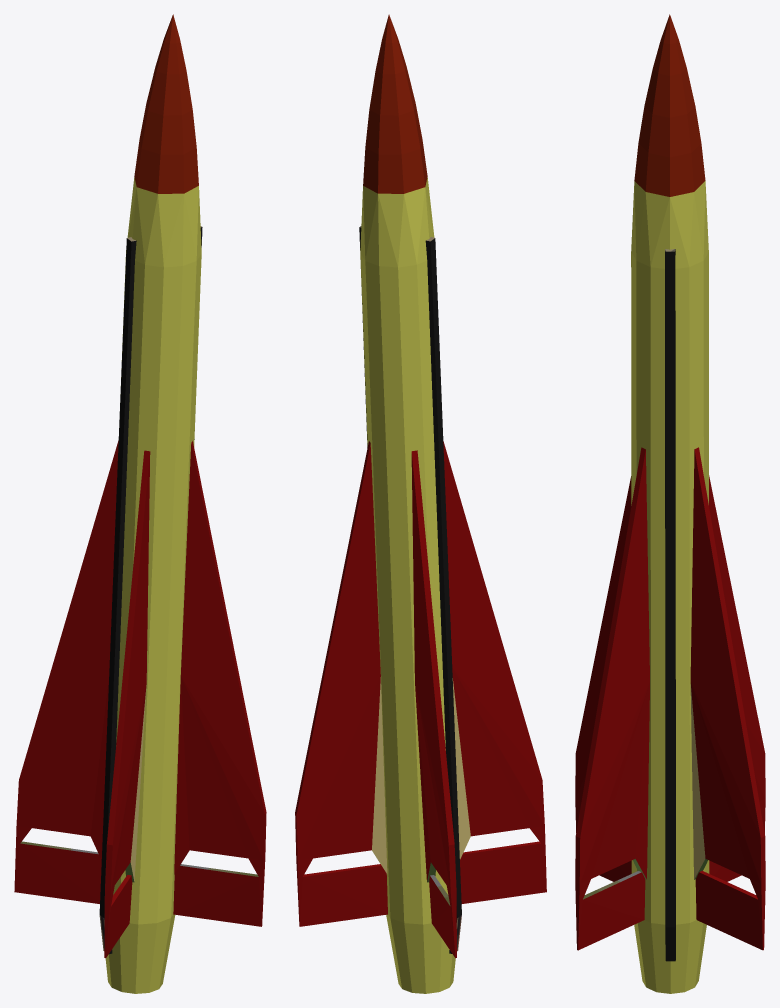
The model's file is RocketLuncher-2_Rocket.fbx.
3 renders of one model, left to right at view 1: azimuth 30°, elevation 25°; view 2: azimuth 150°, elevation 25°; view 3: azimuth 270°, elevation 25°, orthographic. The views are drawn at different scales.
Parts seen in each view (by area): view 1: Rocket; view 2: Rocket; view 3: Rocket.
Part boxes in pixels (x1,y1,x2,y2): Rocket: [14, 14, 266, 993]; Rocket: [295, 14, 546, 993]; Rocket: [575, 14, 765, 993].
Bounding box in the file's own units: 35.77 × 201 × 35.23.
